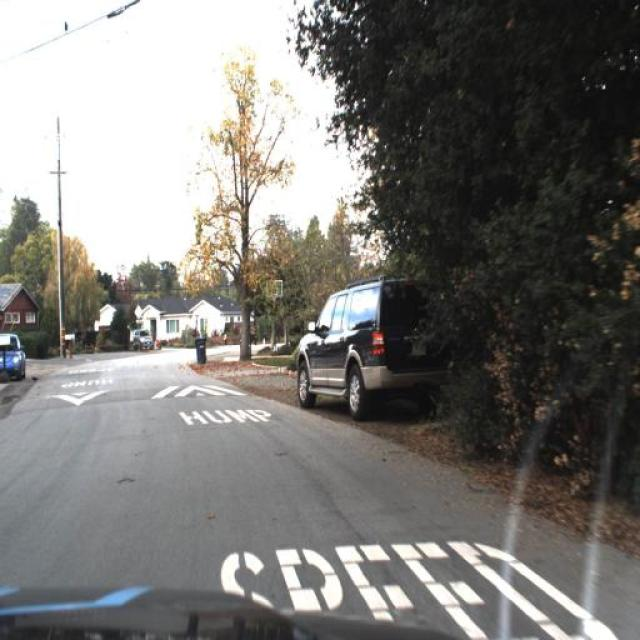car: (282, 262, 467, 428), (0, 314, 35, 396), (0, 324, 31, 385), (127, 322, 158, 359), (125, 320, 154, 358)
